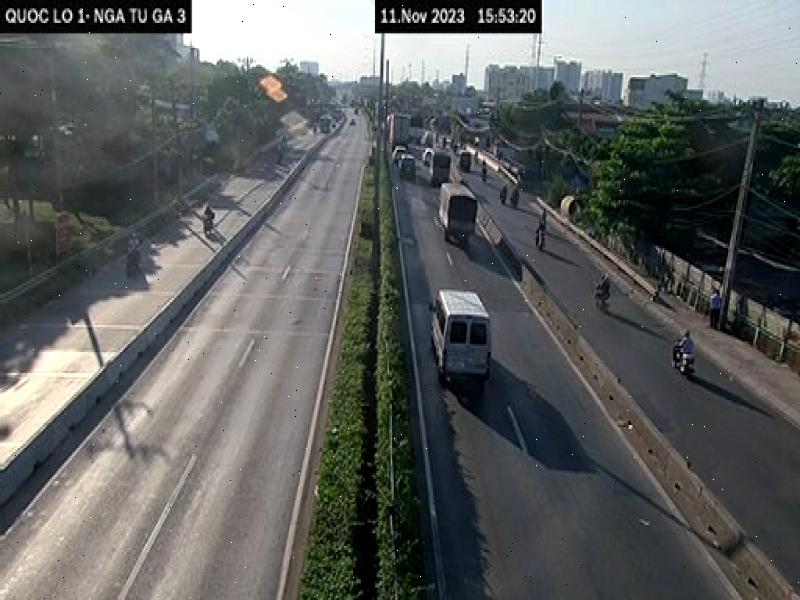truck: (436, 172, 480, 248)
